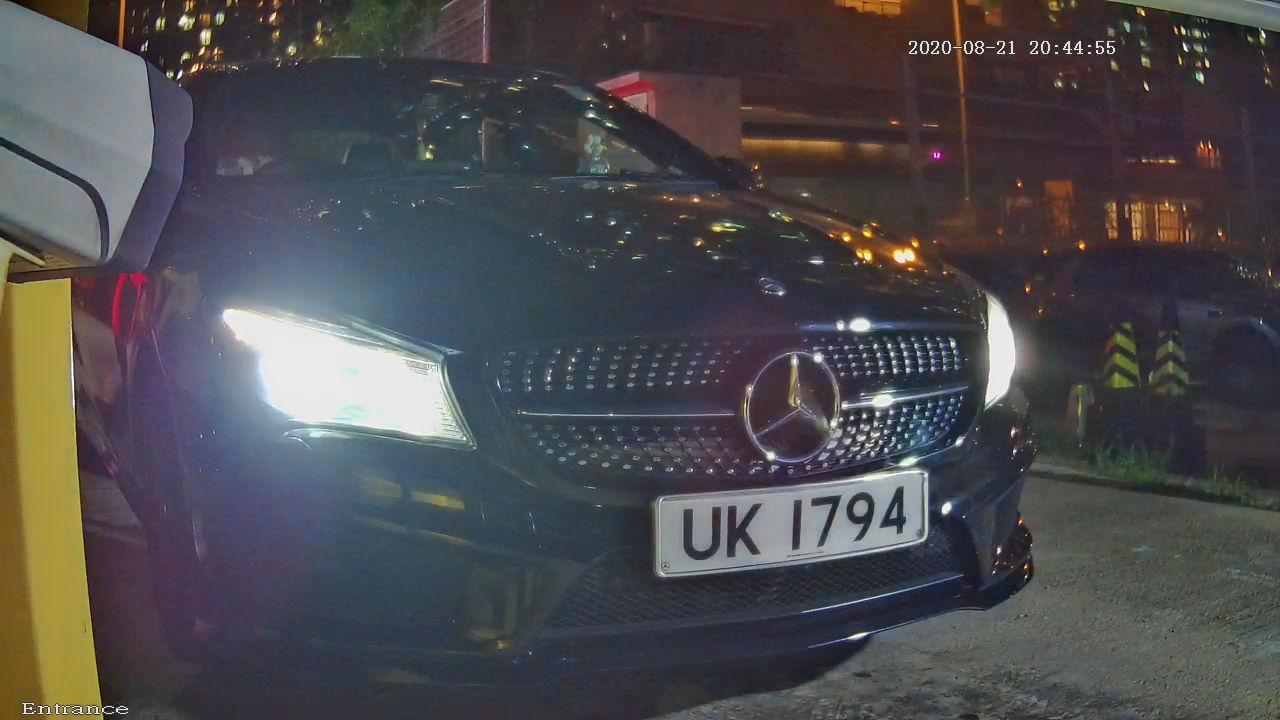Car: (23, 7, 1121, 701)
License Plate: (619, 439, 973, 594)
